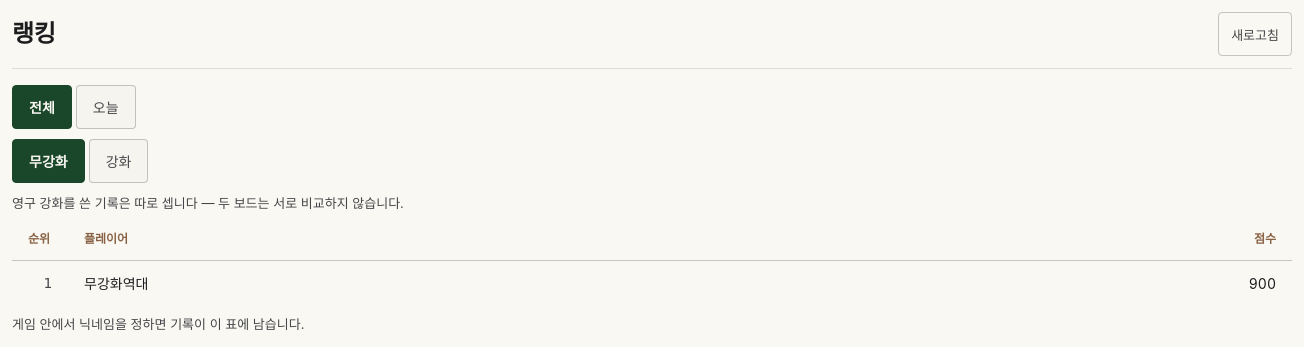
Test: 게임 상세 랭킹 › 오늘 보드에 기록이 있는 트랙이 하나뿐이면 그 트랙으로 옮겨 준다
This screenshot has width=1304, height=347.
Expected: the text "무강화역대" is shown, [84,275,148,292]
Step 1. Click the tab "오늘" → (106, 107), box [76,85,136,129]
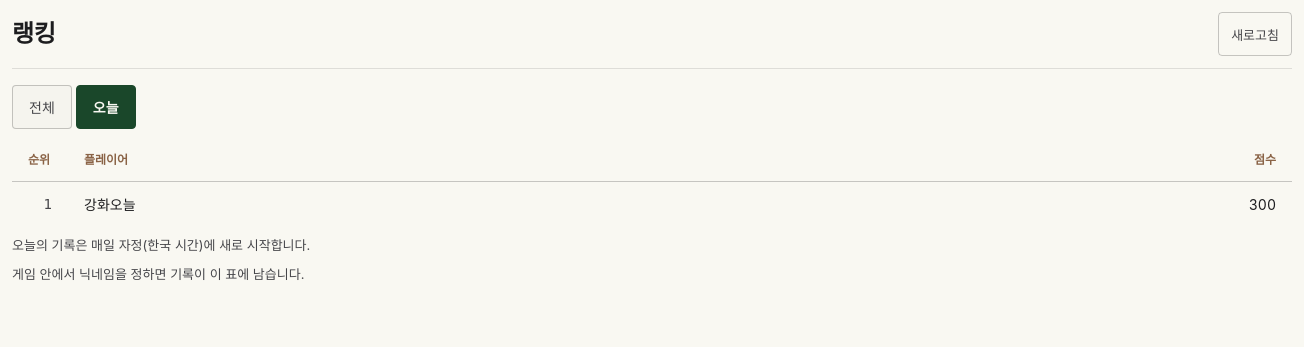
Expected: the text "강화오늘" is shown, [84,196,136,213]
